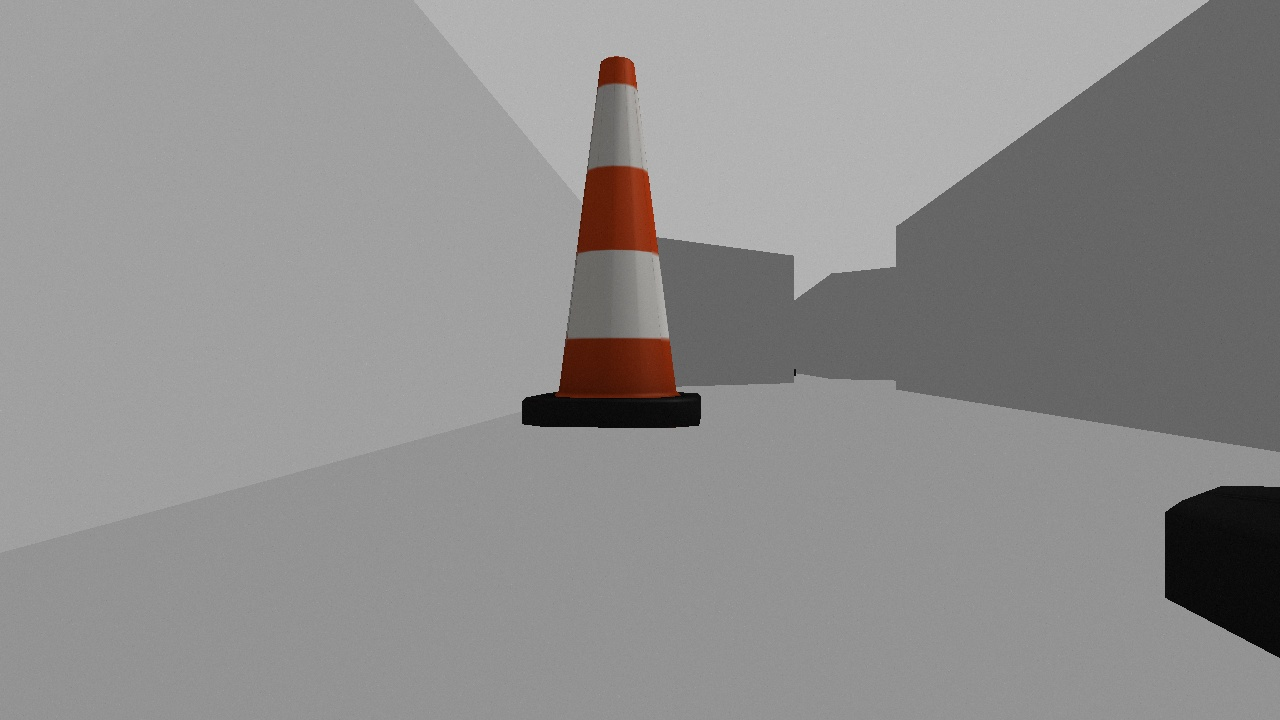barricade: (507, 39, 721, 444)
